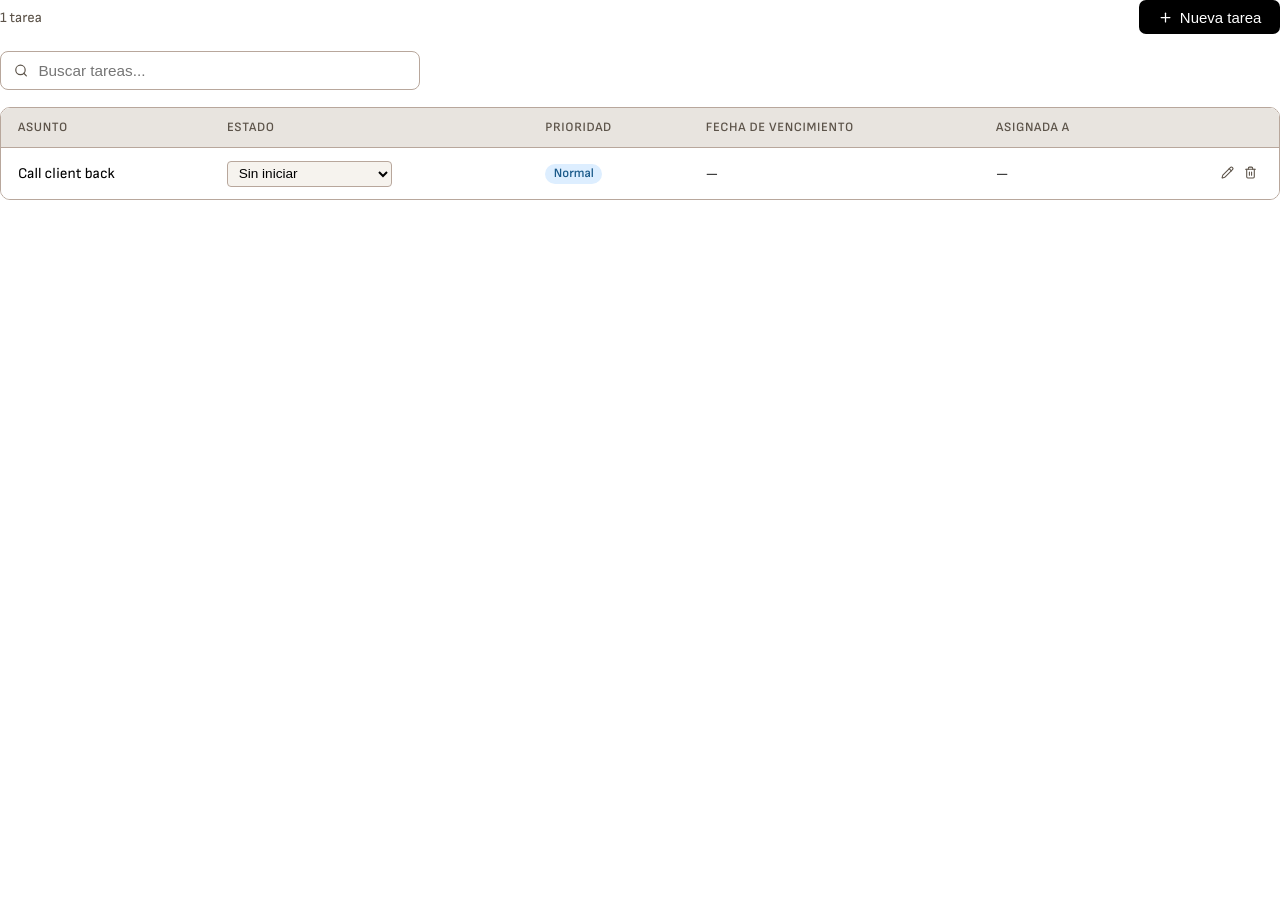
Test: TasksTab — UI behaviour › removes task after deletion
Expected: the text "Call client back" is shown, [18,165,115,182]
Click the button titled "Eliminar": (1250,174) [1239,160,1262,187]
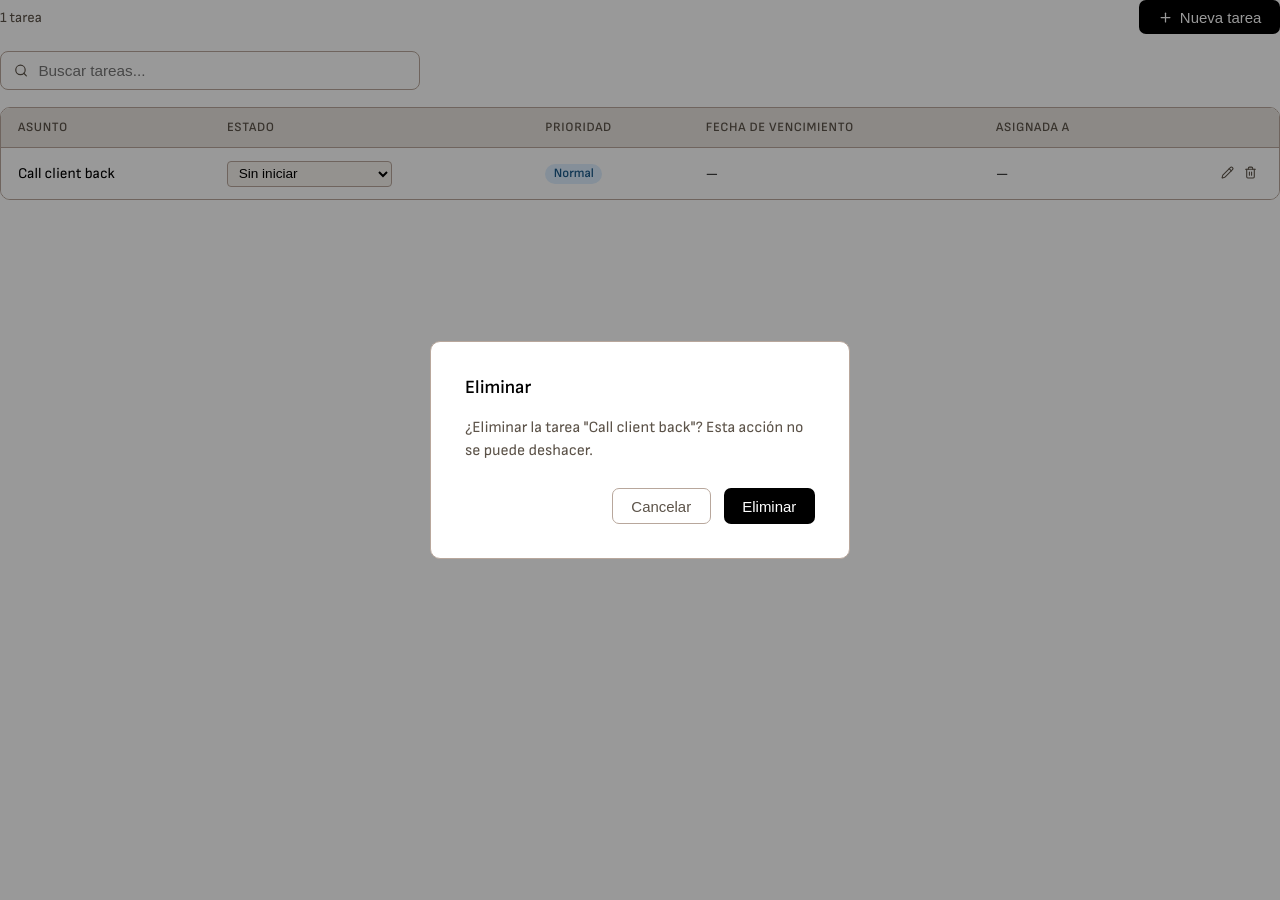
Click the button "Eliminar": (769,506) [724,488,815,524]
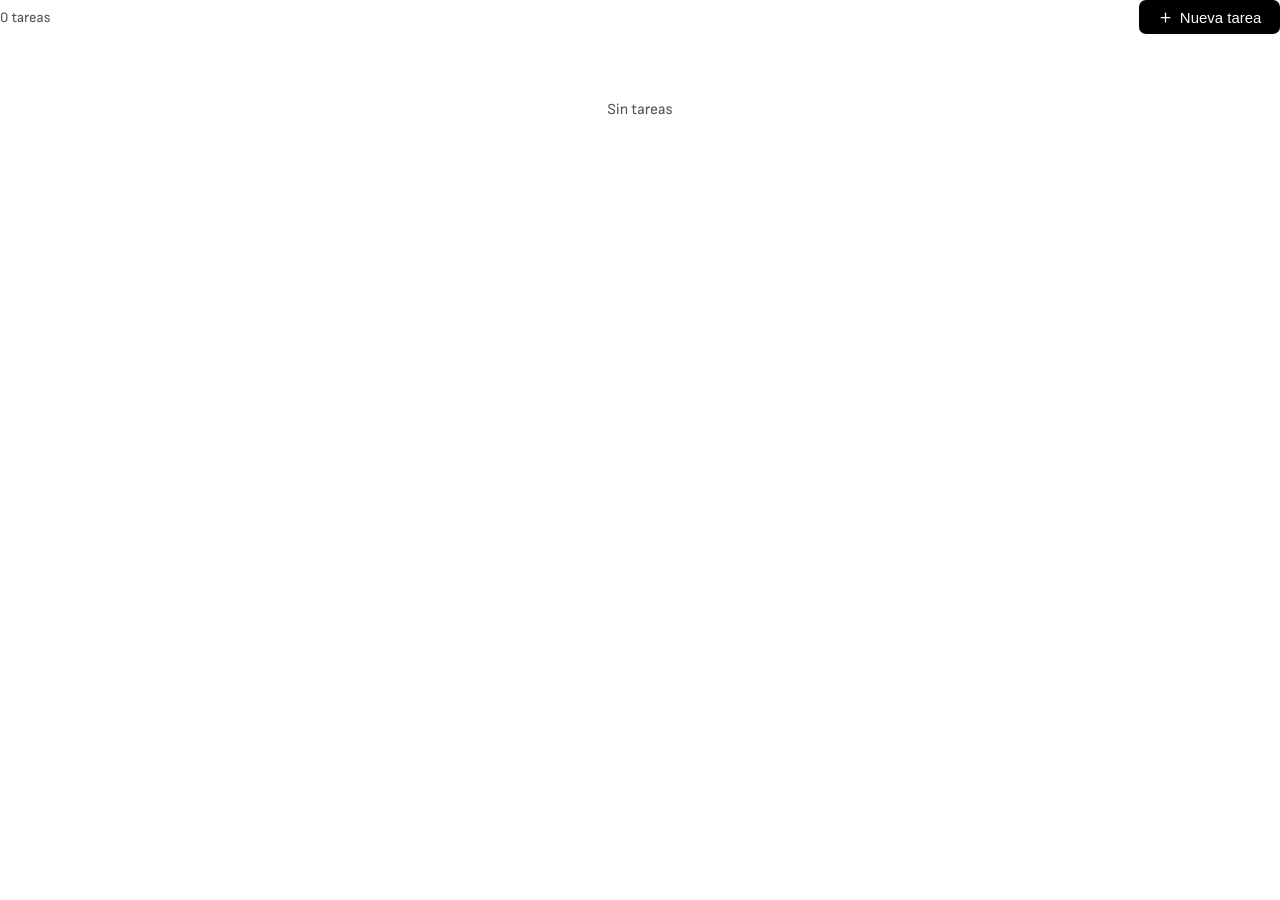
Expected: the text "Call client back" is gone
